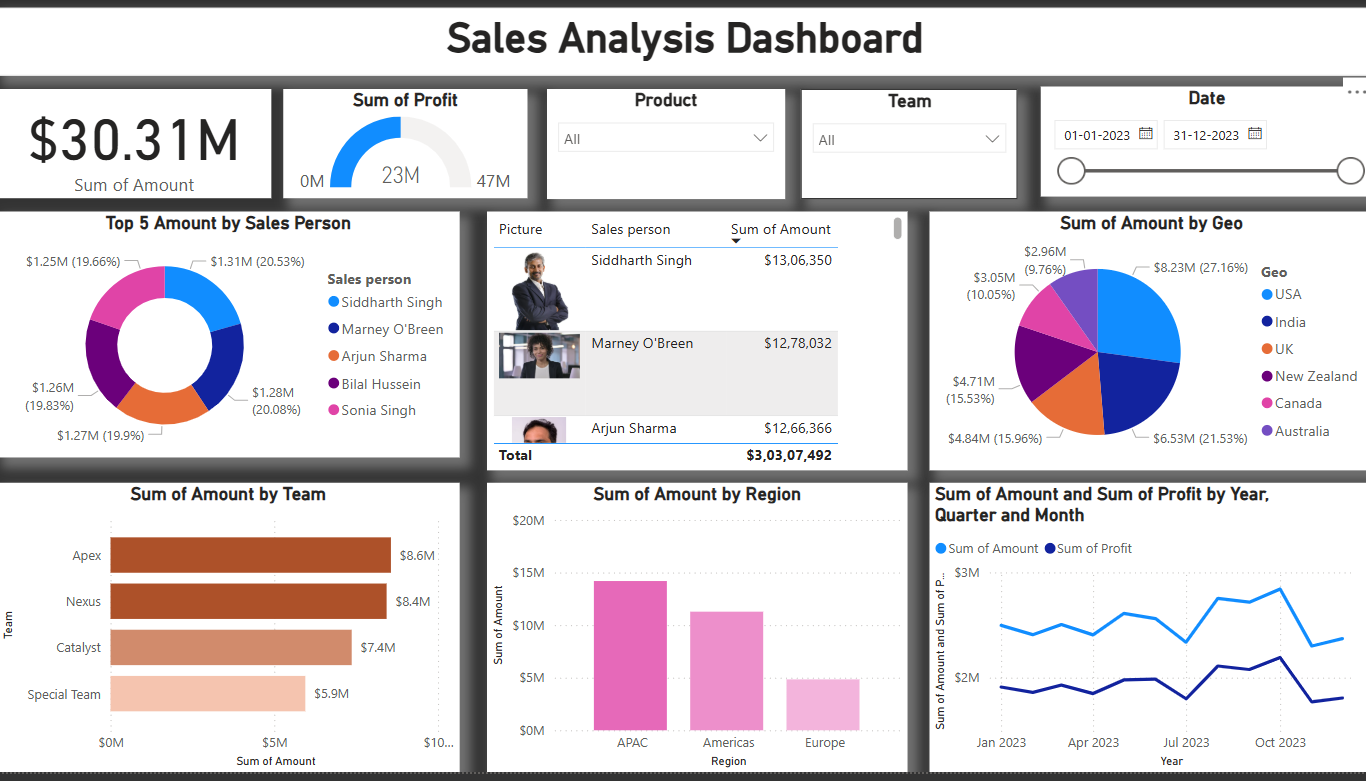

Layout of this report page (visuals, bound fields, positions):
{"tool":"powerbi","page":{"name":"Page 1","canvas":[1280,720],"ordinal":0},"visuals":[{"type":"columnChart","fields":{"Category":["Locations.Region"],"Y":["Sum(sales.Amount)"]},"box":[456.1,450,391.3,270.2],"z":0},{"type":"tableEx","fields":{"Values":["EmployeeData.Picture","EmployeeData.Sales person","Sum(sales.Amount)"]},"box":[456.1,198.1,391.3,240.9],"z":1000},{"type":"barChart","fields":{"Category":["EmployeeData.Team"],"Y":["Sum(sales.Amount)"]},"box":[0,450,430.4,270.2],"z":2000},{"type":"pieChart","fields":{"Category":["Locations.Geo"],"Y":["Sum(sales.Amount)"]},"box":[867,198.1,413.3,240.9],"z":3000},{"type":"donutChart","title":"Top 5 Amount by Sales Person","fields":{"Category":["EmployeeData.Sales person"],"Y":["Sum(sales.Amount)"]},"box":[0,198.1,430.4,228.7],"z":4000},{"type":"card","fields":{"Values":["Sum(sales.Amount)"]},"box":[0,83.2,255.6,101.5],"z":5000},{"type":"slicer","title":"Date","fields":{"Values":["sales.Date"]},"box":[970.9,81.9,309.4,102.7],"z":6000},{"type":"lineChart","fields":{"Category":["sales.Date.Variation.Date Hierarchy.Year","sales.Date.Variation.Date Hierarchy.Quarter","sales.Date.Variation.Date Hierarchy.Month","sales.Date.Variation.Date Hierarchy.Day"],"Y":["Sum(sales.Amount)","Sum(sales.Profit)"]},"box":[867,450,413.3,270.2],"z":7000},{"type":"slicer","title":"Team","fields":{"Values":["EmployeeData.Team"]},"box":[747.2,83.2,201.8,102.7],"z":8000},{"type":"gauge","fields":{"Y":["Sum(sales.Profit)"]},"box":[266.6,83.2,227.4,101.5],"z":9000},{"type":"slicer","title":"Product","fields":{"Values":["sales.Product"]},"box":[511.1,83.2,221.3,102.7],"z":10000},{"type":"textbox","box":[0,8.6,1280.3,63.6],"z":11000}]}

Visuals, with their boxes in screenshot pixels (x1, y1, x2, y2), scaled from the page's 1280x720 canvas onto the 1366x781 screenshot:
columnChart - Locations.Region x Sum(sales.Amount): locate(487, 488, 904, 780)
tableEx - EmployeeData.Picture x EmployeeData.Sales person: locate(487, 215, 904, 476)
barChart - EmployeeData.Team x Sum(sales.Amount): locate(0, 488, 459, 780)
pieChart - Locations.Geo x Sum(sales.Amount): locate(925, 215, 1365, 476)
"Top 5 Amount by Sales Person" donutChart: locate(0, 215, 459, 463)
card - Sum(sales.Amount): locate(0, 90, 273, 200)
"Date" slicer: locate(1036, 89, 1365, 200)
lineChart - sales.Date.Variation.Date Hierarchy.Year x sales.Date.Variation.Date Hierarchy.Quarter: locate(925, 488, 1365, 780)
"Team" slicer: locate(797, 90, 1013, 202)
gauge - Sum(sales.Profit): locate(285, 90, 527, 200)
"Product" slicer: locate(545, 90, 782, 202)
textbox: locate(0, 9, 1365, 78)
